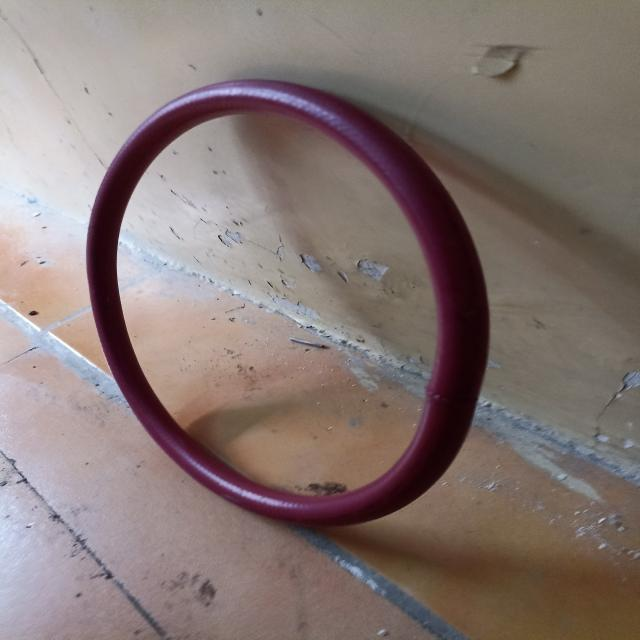daire: (86, 75, 484, 525)
